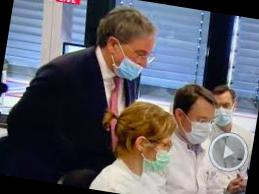mask_weared_incorrect: (108, 40, 156, 86)
with_mask: (134, 134, 181, 179), (180, 109, 219, 147), (212, 100, 237, 128)
